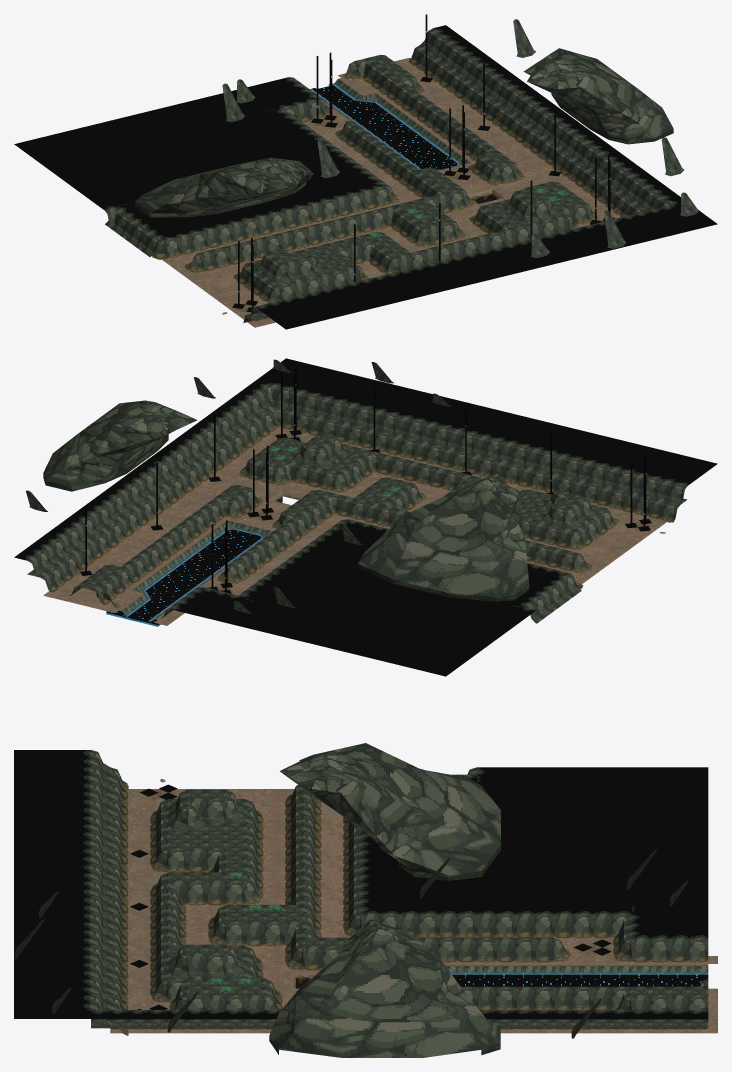
The picture shows the model from 3 angles, top to bottom: view 1: azimuth 30°, elevation 25°; view 2: azimuth 150°, elevation 25°; view 3: azimuth 270°, elevation 25°; orthographic projection. The views are drawn at different scales.
Visible parts, largest first — view 1: polygon11, polygon10, polygon9, polygon16, polygon6, polygon8, polygon12, polygon2, polygon13, polygon5, polygon4, polygon3; view 2: polygon11, polygon10, polygon16, polygon9, polygon6, polygon12, polygon8, polygon2, polygon13, polygon5, polygon4, polygon3; view 3: polygon11, polygon16, polygon10, polygon9, polygon6, polygon12, polygon8, polygon2, polygon5, polygon4, polygon13, polygon3 (+1 smaller).
Boxes of the visible parts, left/top/right/bottom form: polygon11: left=14, top=25, right=717, bottom=329; polygon10: left=105, top=31, right=666, bottom=322; polygon9: left=105, top=28, right=673, bottom=315; polygon16: left=135, top=48, right=673, bottom=217; polygon6: left=162, top=57, right=620, bottom=327; polygon8: left=222, top=19, right=699, bottom=320; polygon12: left=151, top=57, right=627, bottom=323; polygon2: left=312, top=84, right=457, bottom=170; polygon13: left=232, top=14, right=614, bottom=312; polygon5: left=335, top=79, right=469, bottom=164; polygon4: left=325, top=78, right=503, bottom=198; polygon3: left=310, top=83, right=460, bottom=170; polygon11: left=14, top=358, right=717, bottom=676; polygon10: left=32, top=388, right=684, bottom=623; polygon16: left=43, top=400, right=529, bottom=601; polygon9: left=27, top=384, right=687, bottom=610; polygon6: left=43, top=426, right=666, bottom=625; polygon12: left=48, top=422, right=674, bottom=618; polygon8: left=26, top=359, right=687, bottom=613; polygon2: left=106, top=529, right=260, bottom=624; polygon13: left=80, top=367, right=651, bottom=593; polygon5: left=122, top=521, right=272, bottom=619; polygon4: left=119, top=491, right=303, bottom=619; polygon3: left=125, top=528, right=263, bottom=621; polygon11: left=14, top=750, right=708, bottom=1018; polygon16: left=269, top=743, right=500, bottom=1057; polygon10: left=91, top=752, right=708, bottom=1031; polygon9: left=91, top=750, right=708, bottom=1010; polygon6: left=110, top=789, right=717, bottom=1033; polygon12: left=110, top=780, right=708, bottom=1035; polygon8: left=14, top=790, right=708, bottom=1038; polygon2: left=452, top=974, right=708, bottom=986; polygon5: left=446, top=966, right=708, bottom=972; polygon4: left=291, top=964, right=708, bottom=988; polygon13: left=130, top=784, right=611, bottom=1009; polygon3: left=450, top=972, right=708, bottom=974.
Size of the model in its own units: 9.76 by 1.87 by 9.12.
Materials: 17 (17 with a texture image).
